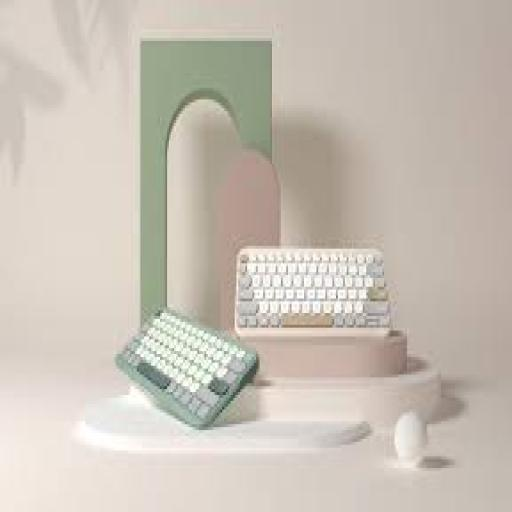KEYBOARD-2: (116, 307, 258, 427), (236, 246, 391, 339)
